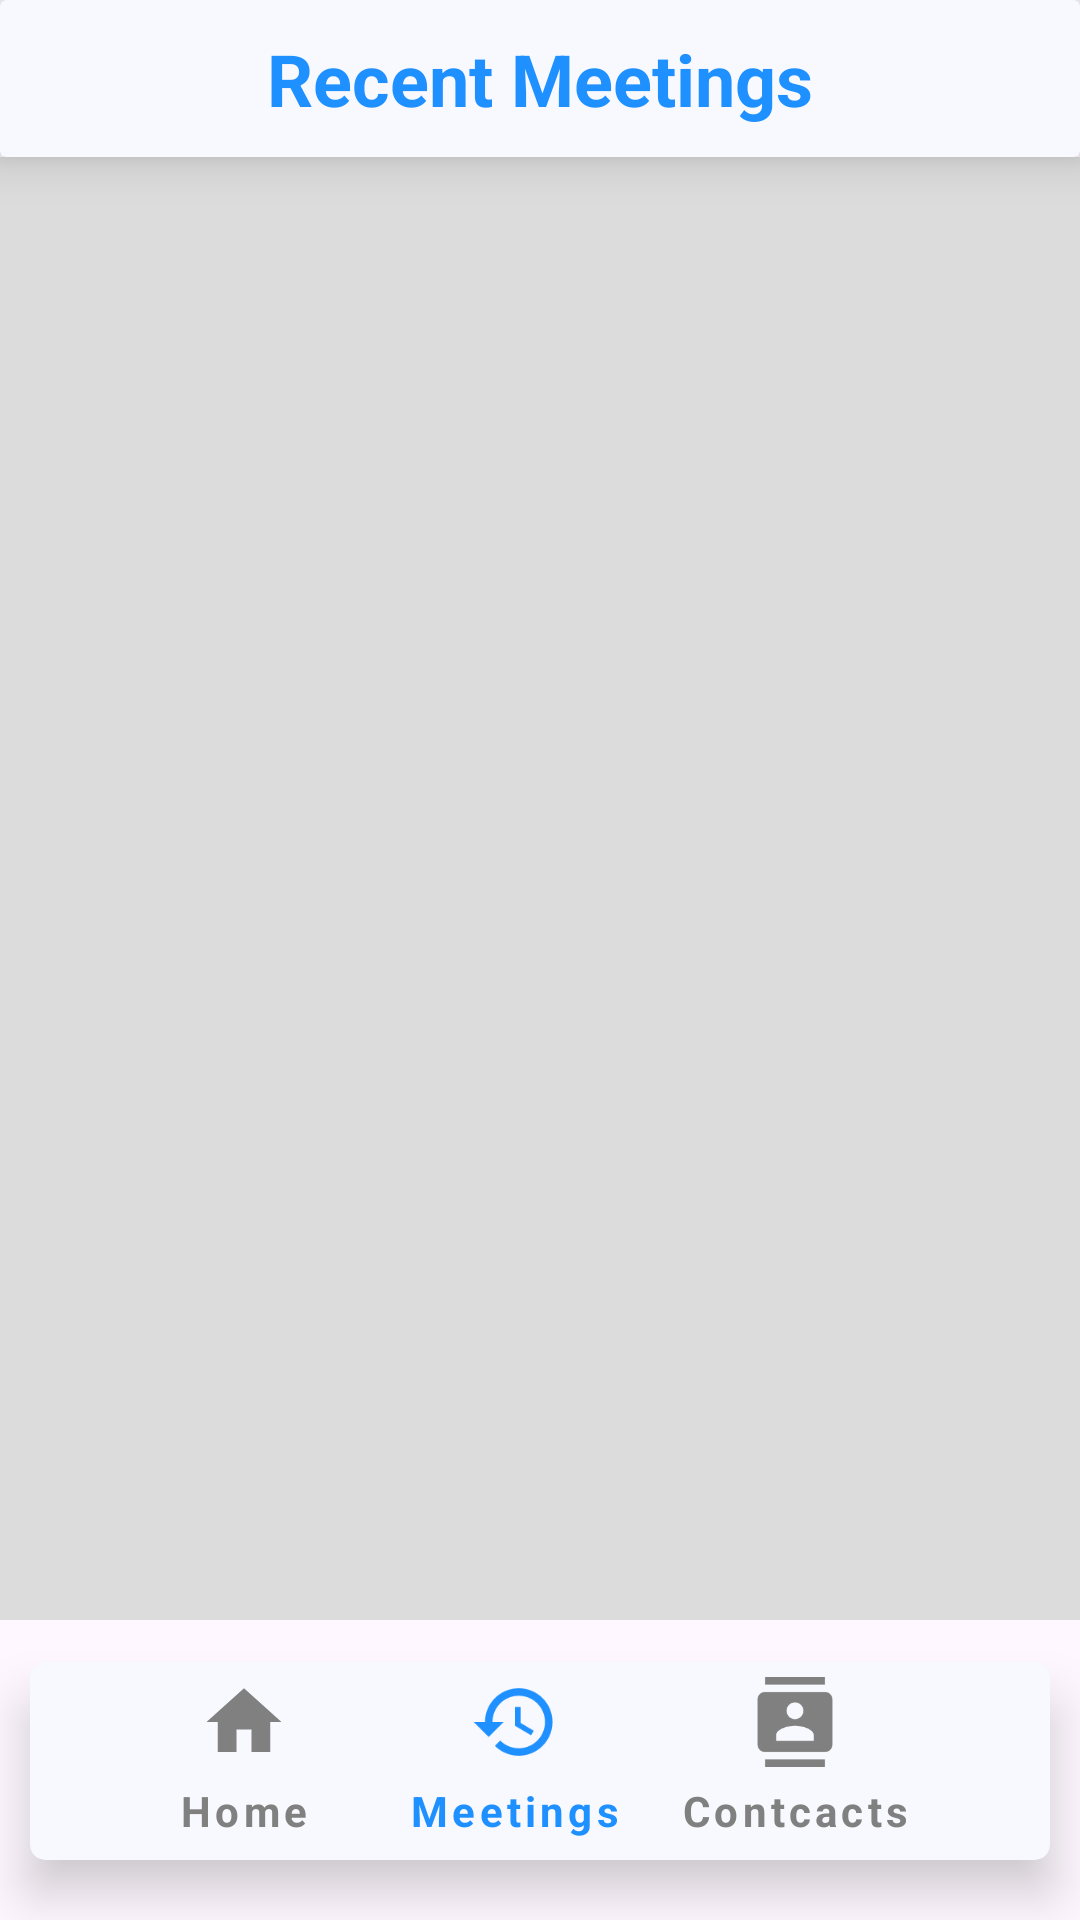

Where to tap for icons on this 1080px×1920px app screen, as (x=x, y=y):
historydemact: (x=513, y=1722)
